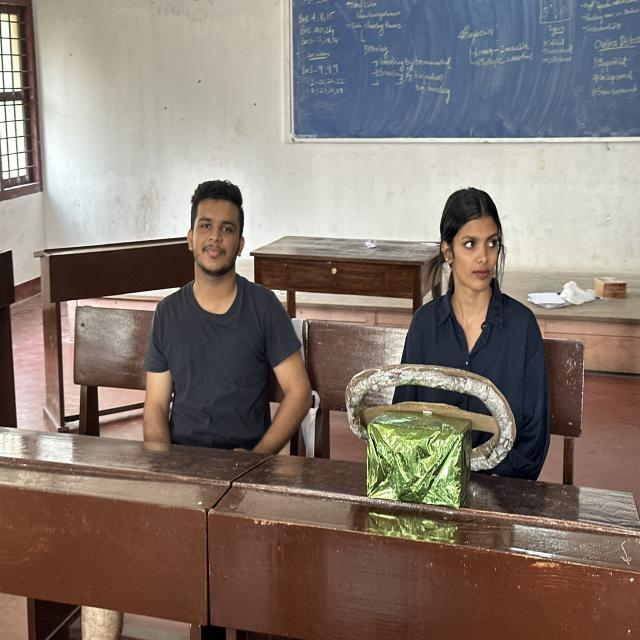no-seatbelt: (144, 278, 329, 490), (397, 290, 563, 485)
